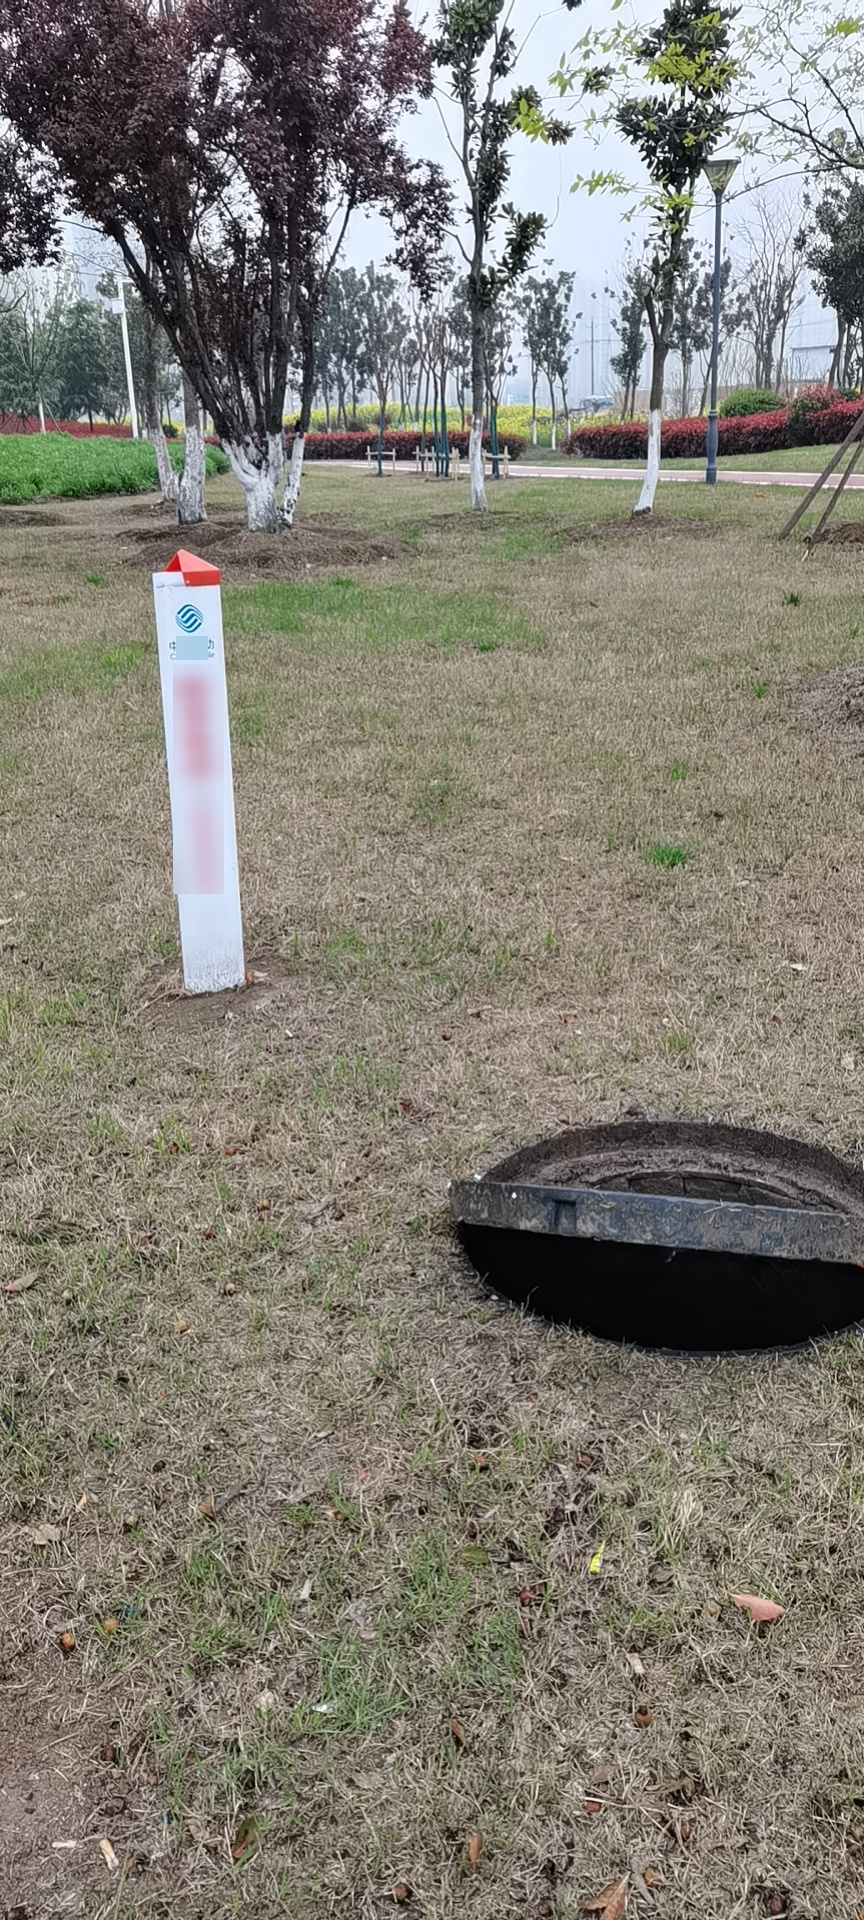uncovered: (458, 1119, 864, 1357)
